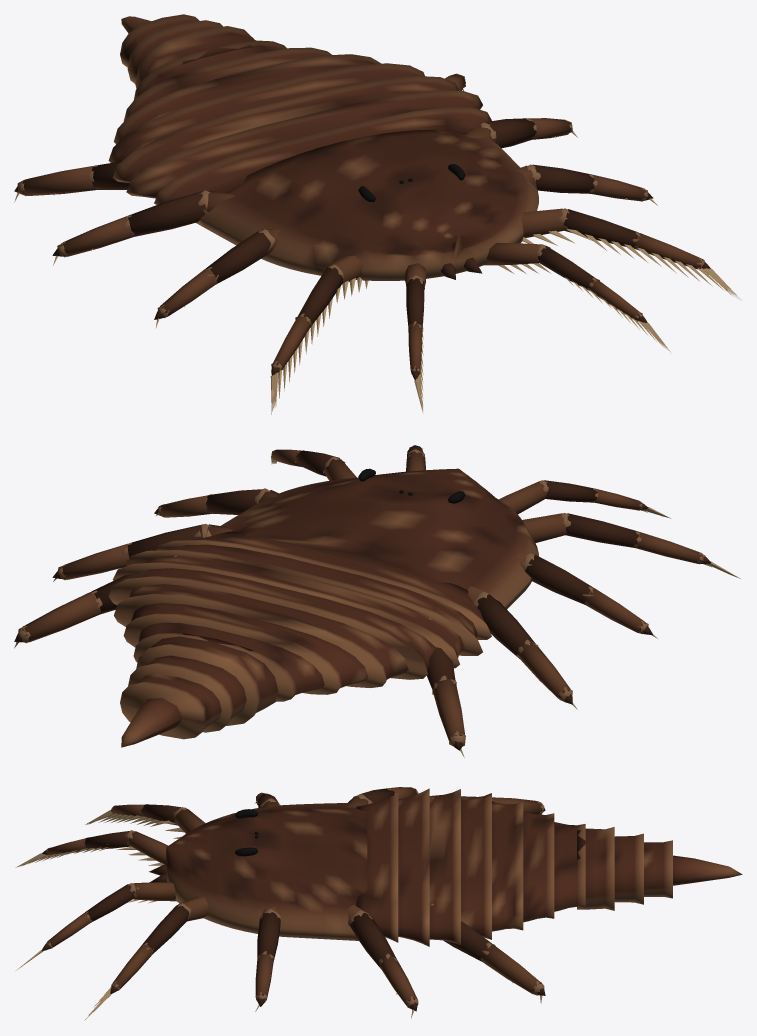
File: Campylocephalus.fbx
The picture shows the model from 3 angles, top to bottom: view 1: azimuth 30°, elevation 25°; view 2: azimuth 150°, elevation 25°; view 3: azimuth 270°, elevation 25°; orthographic projection. The views are drawn at different scales.
Parts seen in each view (by area): view 1: Campylocephalus; view 2: Campylocephalus; view 3: Campylocephalus.
Part boxes in pixels (x1,y1,x2,y2): Campylocephalus: (14,14,741,414); Campylocephalus: (14,445,740,757); Campylocephalus: (15,787,742,1020).
Bounding box in the file's own units: 1.19 × 0.2391 × 1.67.
